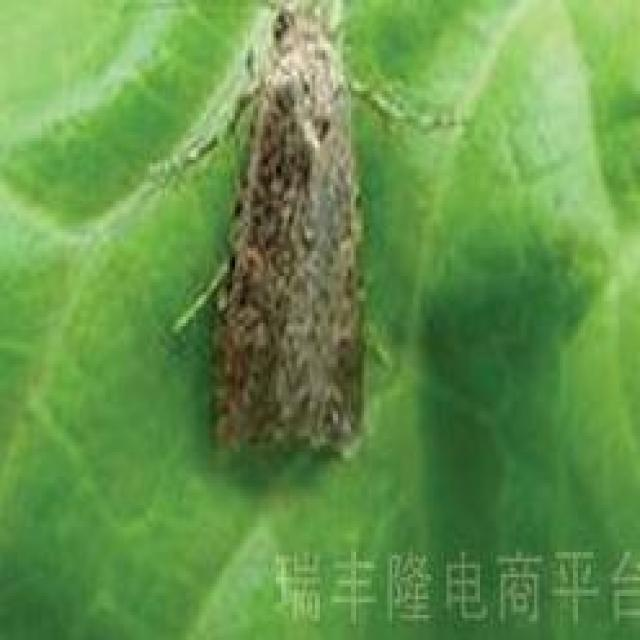BeetArmyWorm-Adult-: (185, 5, 421, 479)
